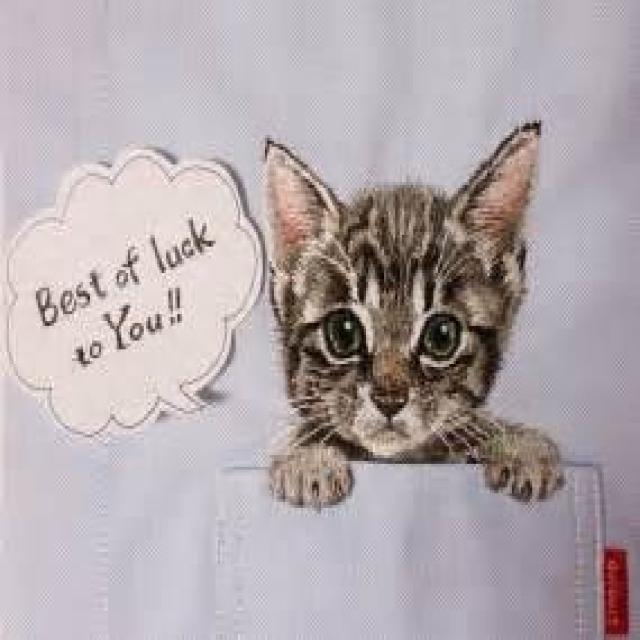cat: (255, 119, 584, 572)
